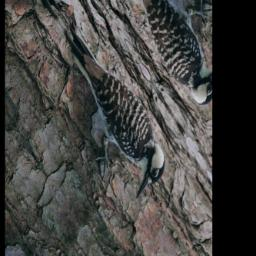Woodpecker: (34, 3, 178, 229)
